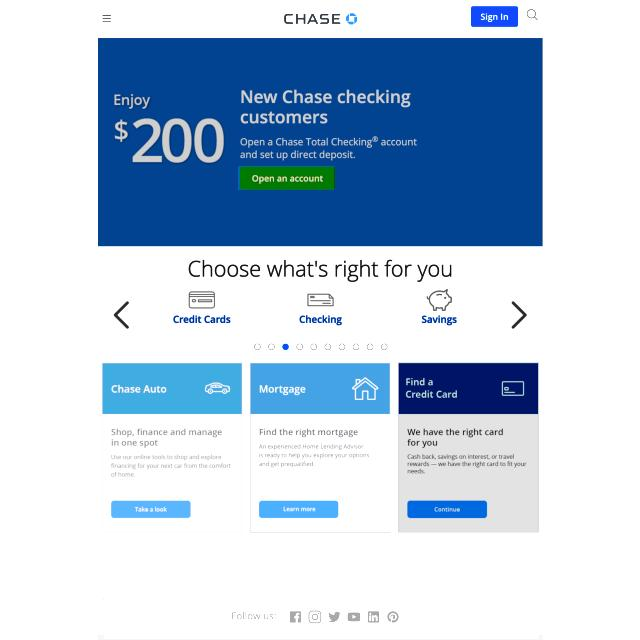CheckBox: (238, 166, 334, 190), (471, 6, 520, 28)
Spinner: (398, 362, 539, 532), (102, 363, 242, 534), (251, 362, 390, 532)
Switch: (98, 247, 541, 361)
badge: (104, 598, 539, 639)
bag: (97, 0, 542, 39)
card: (98, 38, 543, 246)
carousel: (526, 6, 540, 24)
date picker: (281, 7, 361, 30)
decoration: (100, 12, 116, 26)
dropdown: (253, 340, 389, 353)
image: (184, 259, 463, 282)
